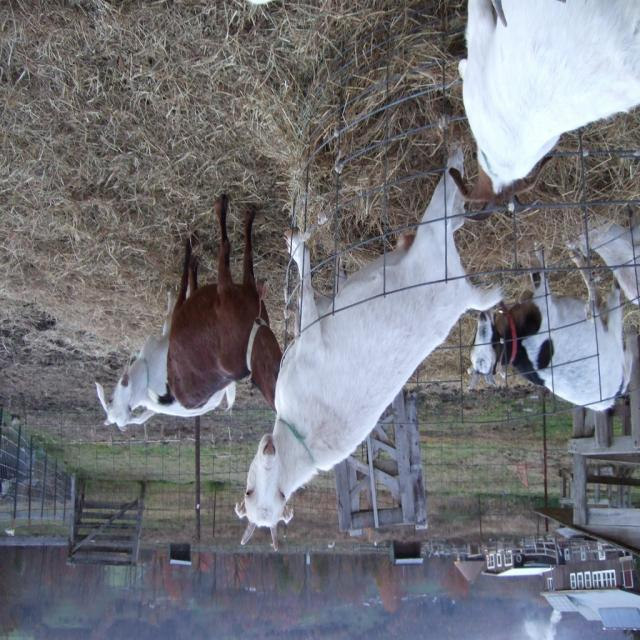Goat: (234, 143, 504, 553), (449, 2, 640, 223), (466, 240, 633, 415), (165, 194, 283, 415), (94, 285, 236, 433), (577, 206, 639, 310)
